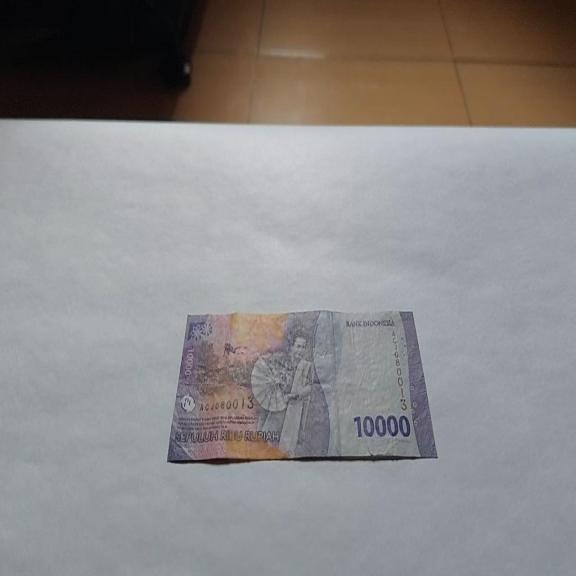Kertas: (166, 308, 437, 464), (352, 412, 412, 440)
